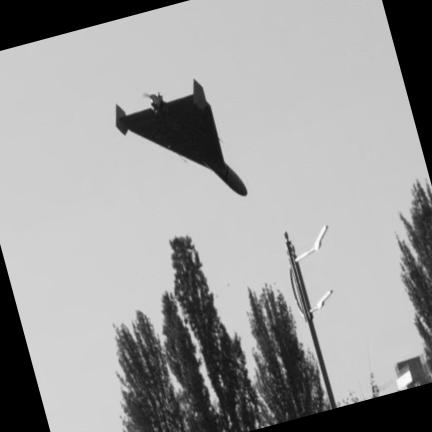Shahed: (116, 79, 248, 196)
